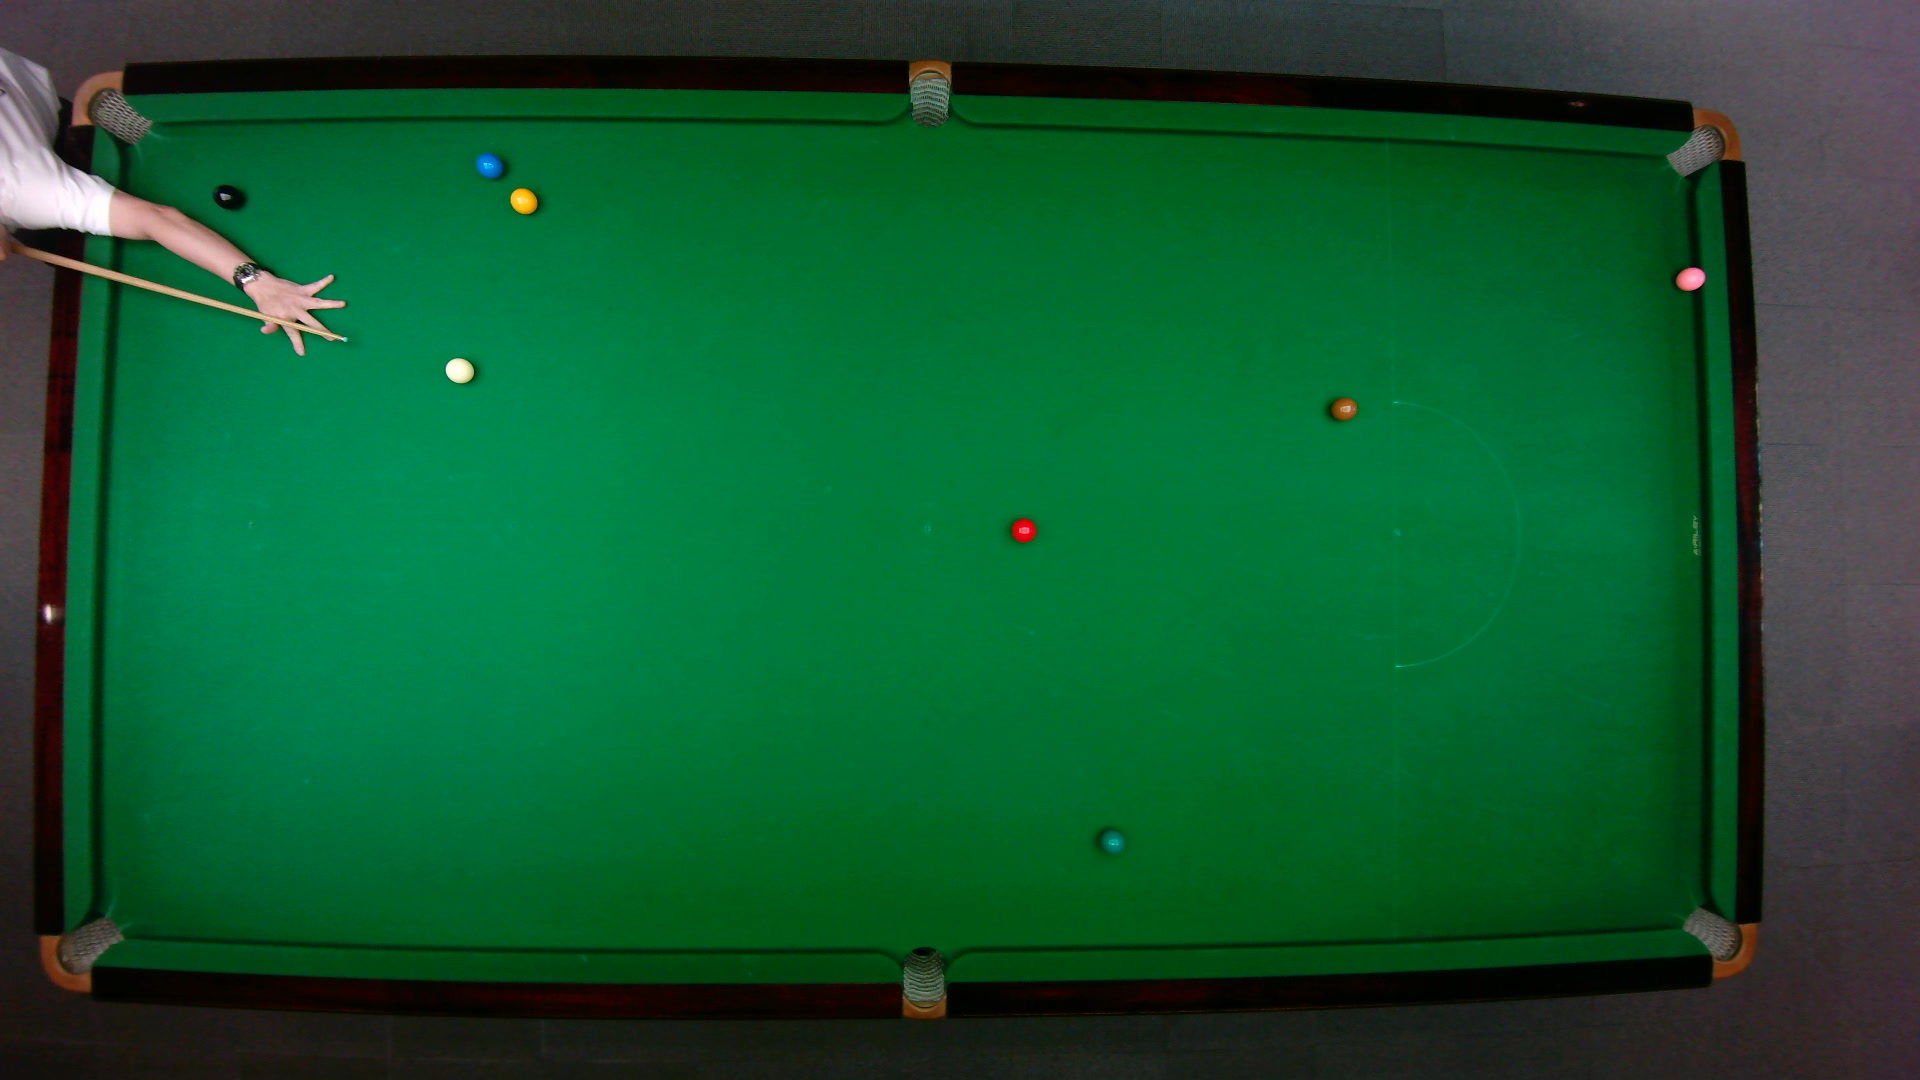bag: (37, 914, 125, 992), (69, 69, 152, 144), (1677, 905, 1756, 978), (1663, 107, 1741, 177), (901, 944, 945, 1021), (909, 58, 949, 128)
black: (211, 183, 243, 208)
blue: (473, 152, 502, 178)
brown: (1328, 396, 1358, 421)
cue: (3, 235, 352, 349)
green: (1098, 827, 1126, 855)
pink: (1673, 264, 1706, 291)
red: (1009, 516, 1036, 543)
white: (442, 355, 475, 384)
yellow: (506, 186, 539, 215)
zone: (1390, 398, 1520, 669)
